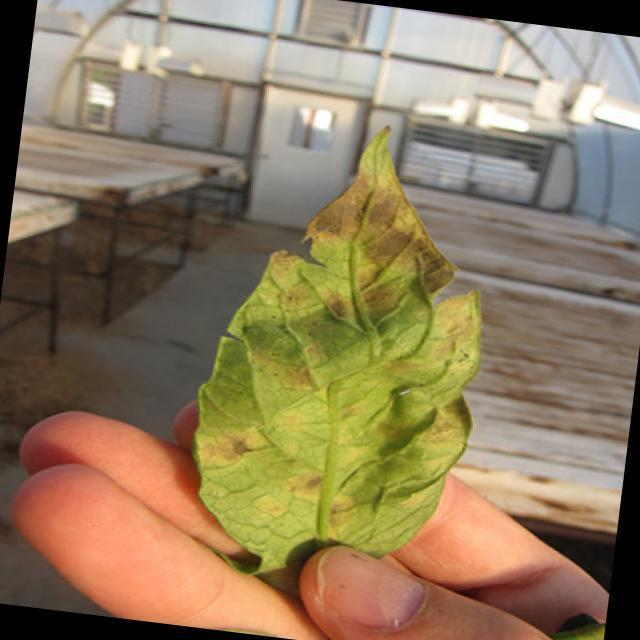Mosaic Virus: (182, 115, 504, 578)
